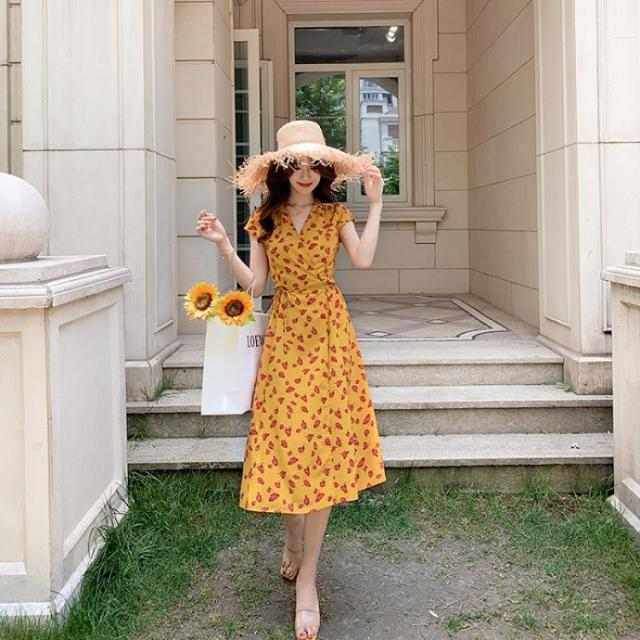clothes: (231, 197, 389, 515)
